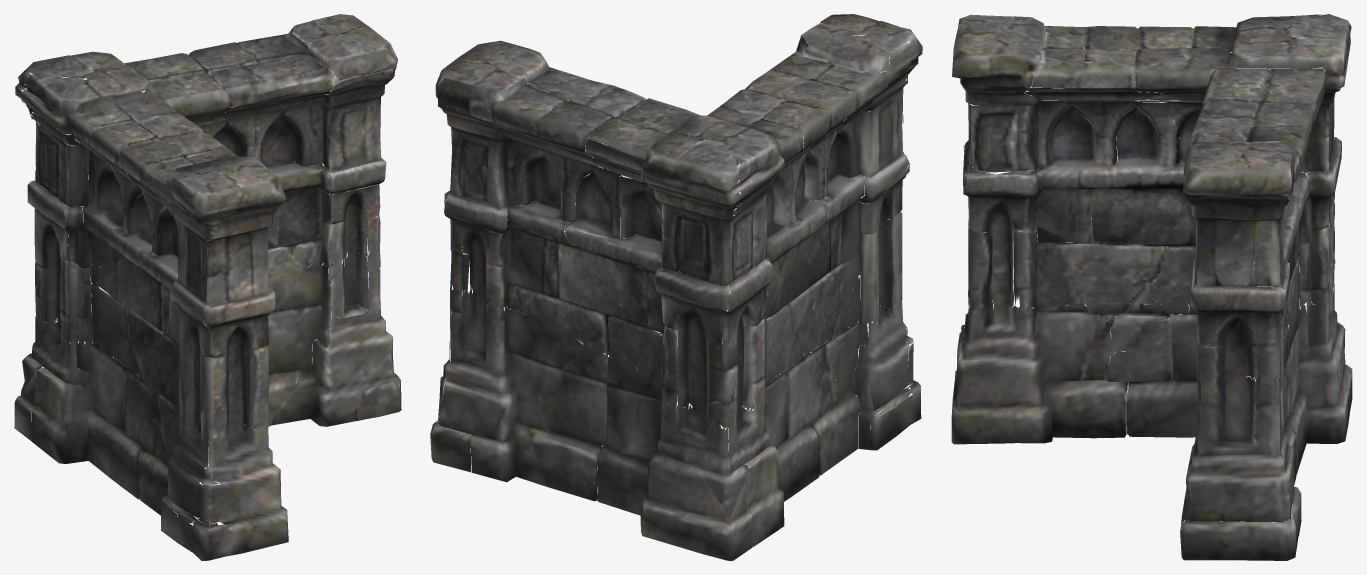
File: CornerWallL.glb
The picture shows the model from 3 angles, left to right: view 1: azimuth 30°, elevation 25°; view 2: azimuth 150°, elevation 25°; view 3: azimuth 270°, elevation 25°; orthographic projection. The views are drawn at different scales.
Parts seen in each view (by area): view 1: Eldoria_MultiPiece_Group_01; view 2: Eldoria_MultiPiece_Group_01; view 3: Eldoria_MultiPiece_Group_01.
Boxes of the visible parts, x1,y1,x2,y2 form: Eldoria_MultiPiece_Group_01: (14, 14, 401, 560); Eldoria_MultiPiece_Group_01: (430, 14, 922, 560); Eldoria_MultiPiece_Group_01: (951, 14, 1352, 560).
Bounding box in the file's own units: 0.2106 × 0.2355 × 0.218.
1 material, 1 textured.
